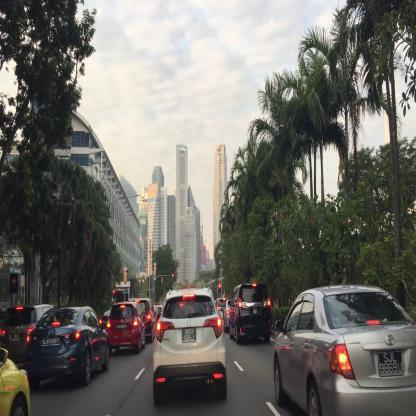red_traffic_light: (218, 283, 221, 292), (112, 289, 114, 298), (170, 274, 173, 277)
